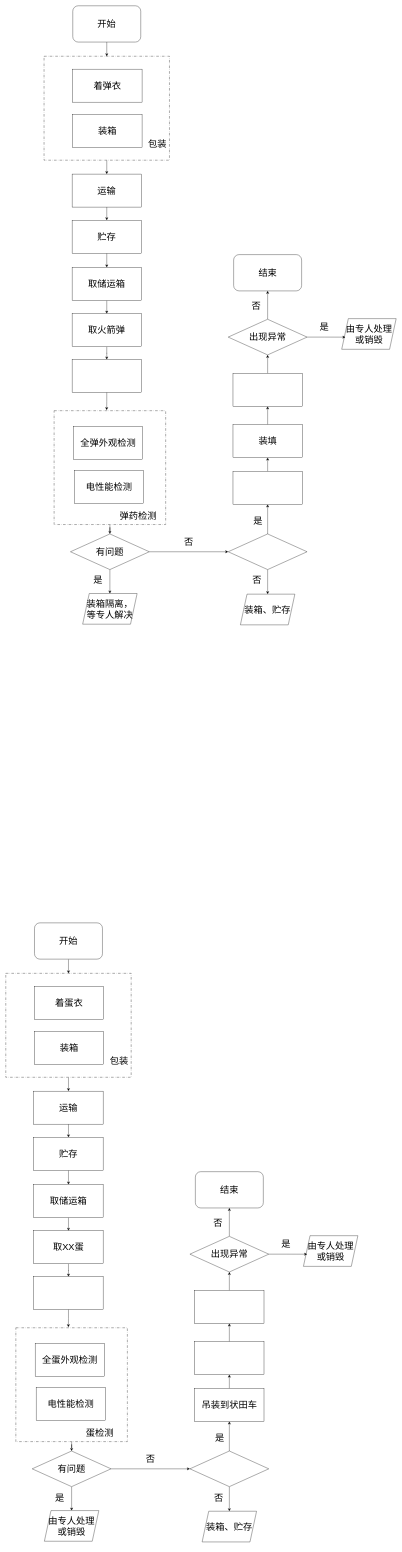
Image size: 402x1552. Some labels were removed from this diagram. Each missing label, with the box of its shape:
作战使用: (228, 534, 307, 570)
作站使用: (190, 1451, 269, 1487)
发射: (233, 373, 302, 406)
发设: (194, 1290, 264, 1323)
吊装到装填车: (233, 471, 302, 504)
弹衣脱卸: (72, 359, 141, 393)
蛋衣脱卸: (33, 1276, 103, 1310)
装田: (194, 1341, 264, 1375)
